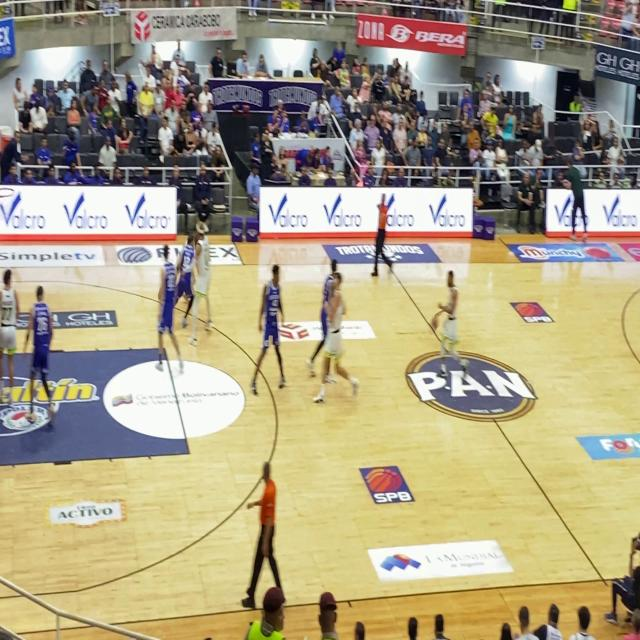Ball: (429, 312, 441, 336)
referee: (246, 449, 287, 601), (372, 186, 392, 282)
team1: (432, 262, 464, 394), (0, 259, 22, 406), (326, 284, 351, 396), (191, 221, 213, 339)
team2: (26, 276, 61, 433), (255, 261, 292, 397), (150, 240, 183, 368), (177, 230, 200, 342), (314, 261, 339, 349)
